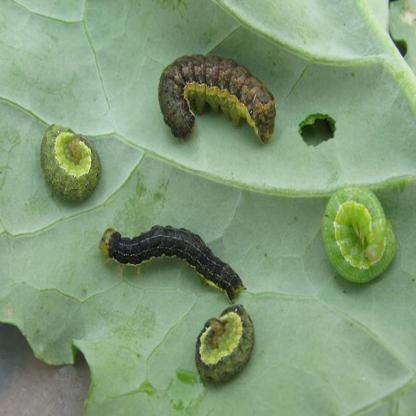armyworm: (158, 46, 286, 162), (100, 223, 244, 294), (324, 189, 400, 271), (44, 116, 104, 197), (198, 301, 250, 366)
